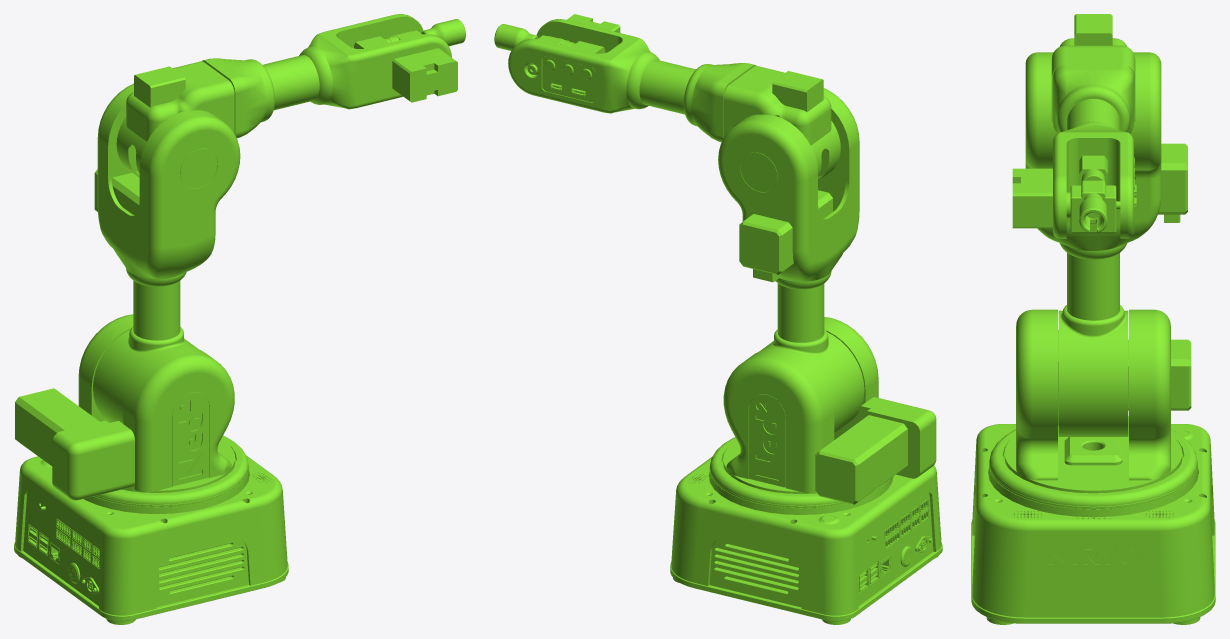
Rendered from NED 2 - DT configured.gltf.
3 views of the same model, side by side, from view 1: azimuth 30°, elevation 25°; view 2: azimuth 150°, elevation 25°; view 3: azimuth 270°, elevation 25° (orthographic). The views are drawn at different scales.
Parts seen in each view (by area): view 1: Base, [Interctable] 002, [Interctable] 001, [Interctable] 004, [Interctable] 003, [Interctable] 006; view 2: Base, [Interctable] 002, [Interctable] 001, [Interctable] 004, [Interctable] 003, [Interctable] 006; view 3: Base, [Interctable] 002, [Interctable] 001, [Interctable] 004, [Interctable] 003, [Interctable] 005, [Interctable] 006.
Part boxes in pixels (x1=…): Base: x1=14, y1=435, x2=288, y2=624; [Interctable] 002: x1=93, y1=83, x2=240, y2=423; [Interctable] 001: x1=15, y1=314, x2=235, y2=500; [Interctable] 004: x1=202, y1=14, x2=457, y2=138; [Interctable] 003: x1=116, y1=61, x2=234, y2=177; [Interctable] 006: x1=421, y1=19, x2=465, y2=46; Base: x1=670, y1=437, x2=942, y2=624; [Interctable] 002: x1=718, y1=88, x2=864, y2=433; [Interctable] 001: x1=723, y1=317, x2=936, y2=504; [Interctable] 004: x1=508, y1=14, x2=756, y2=142; [Interctable] 003: x1=723, y1=66, x2=840, y2=181; [Interctable] 006: x1=494, y1=24, x2=538, y2=50; Base: x1=971, y1=416, x2=1215, y2=624; [Interctable] 002: x1=1025, y1=52, x2=1187, y2=436; [Interctable] 001: x1=1004, y1=309, x2=1191, y2=493; [Interctable] 004: x1=1012, y1=64, x2=1136, y2=238; [Interctable] 003: x1=1051, y1=14, x2=1135, y2=122; [Interctable] 005: x1=1066, y1=155, x2=1120, y2=233; [Interctable] 006: x1=1079, y1=193, x2=1107, y2=232.
Size of the model in its own units: 0.4044 by 0.4551 by 0.1816.
